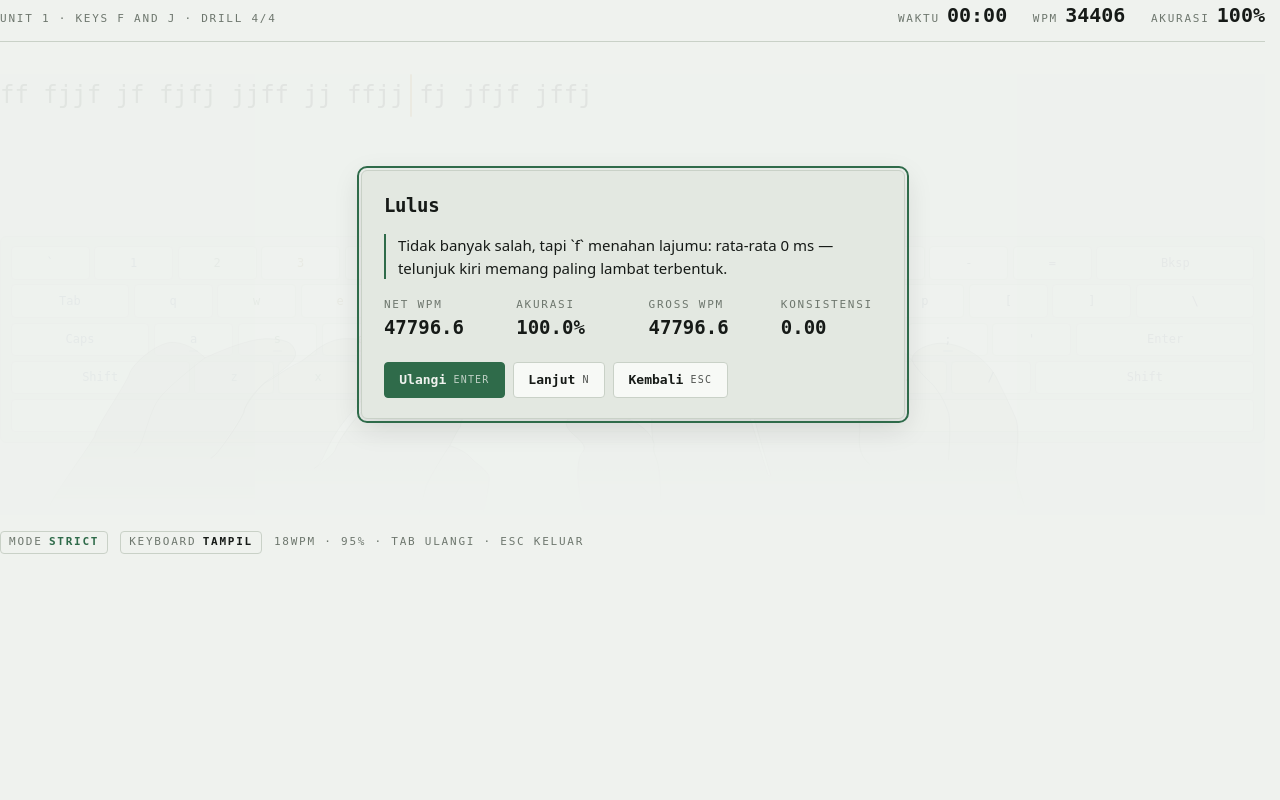
Test: latihan diacak tiap percobaan (ADR-042) › "Ulangi" membangkitkan ulang drill tanpa meng-unmount panggung
Click the button "Ulangi Enter".
click(444, 380)  # box [384,362,505,398]
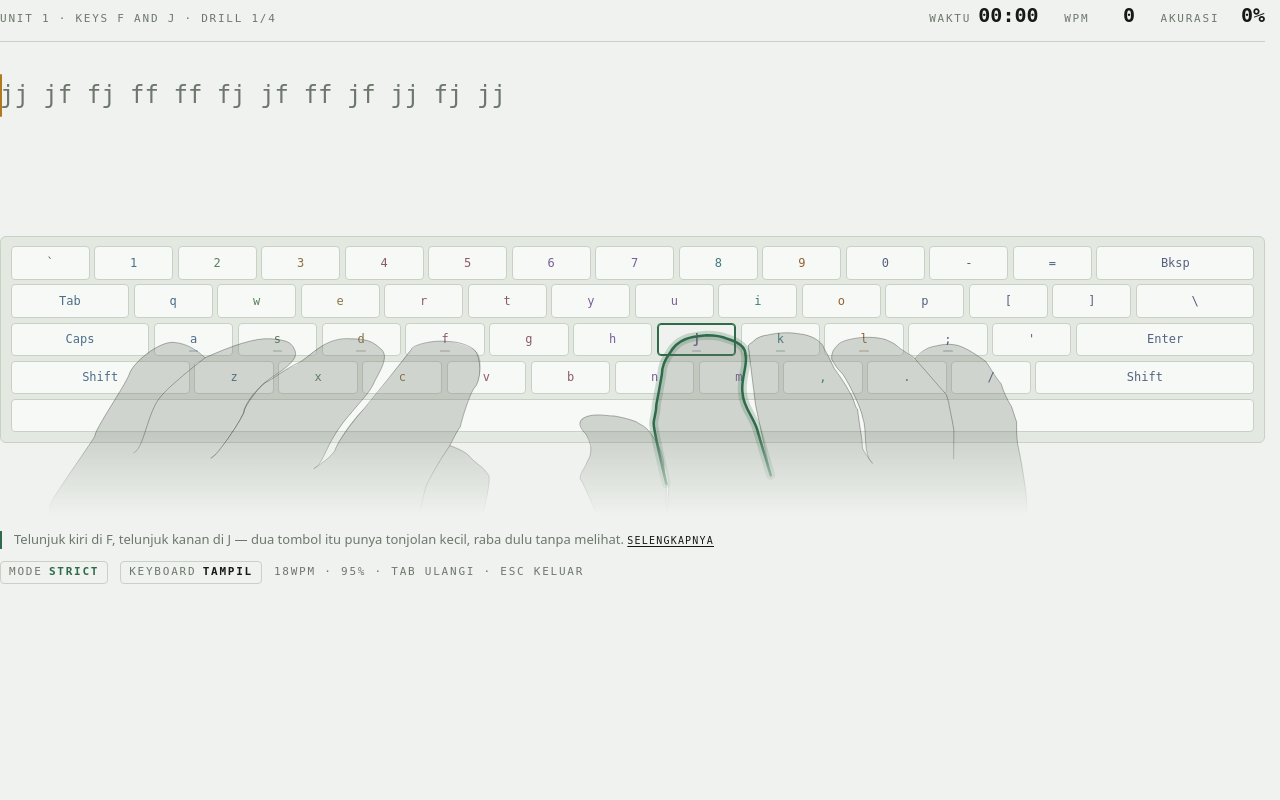
Expected: the element with class "rs-overlay" is gone
Expected: the text "Unit 1 · Keys F and J · drill 1/4" is shown, [0,11,277,28]
